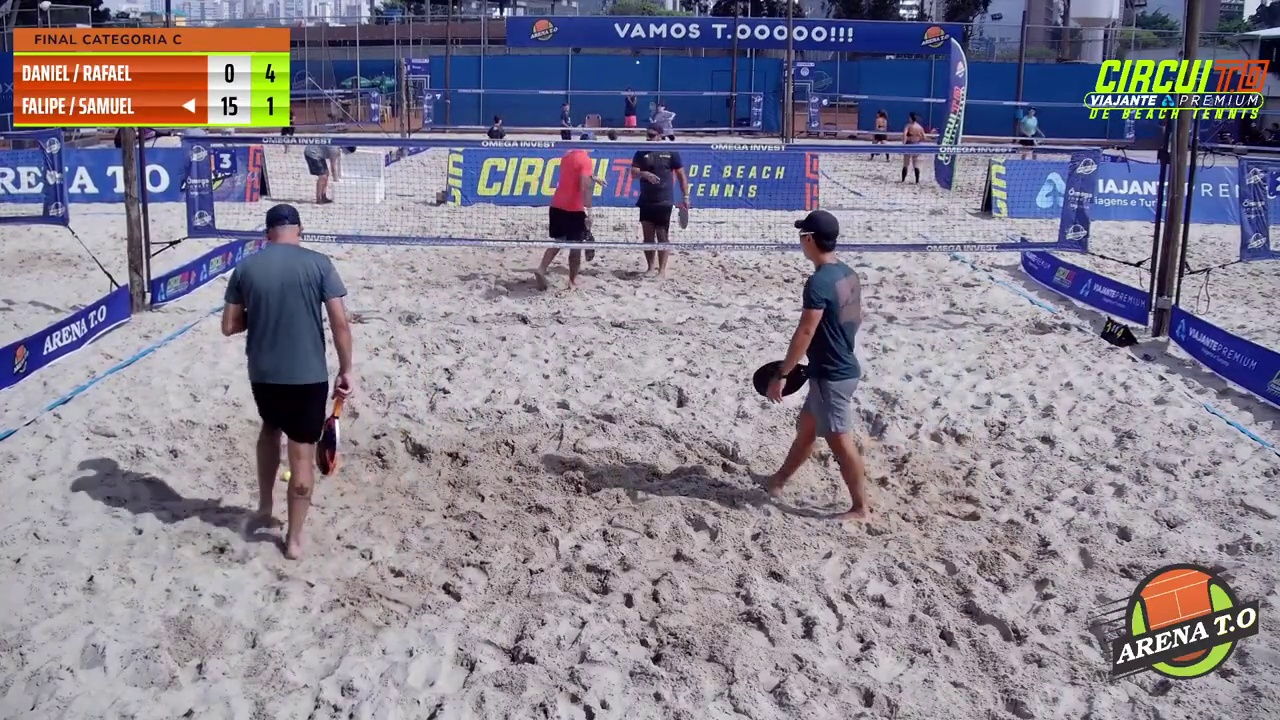court_line: (647, 0, 798, 477)
